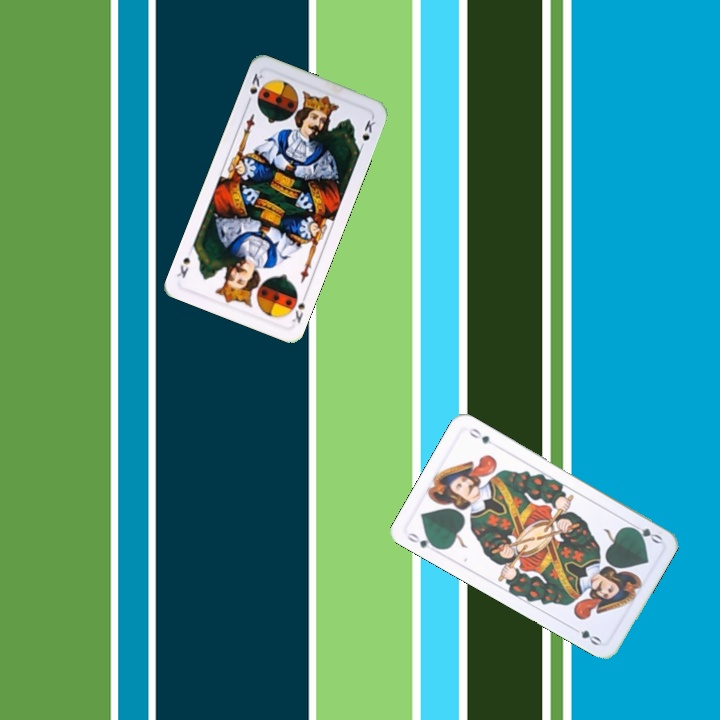GO: (625, 519, 665, 546), (403, 528, 442, 552)
SK: (243, 69, 267, 107), (288, 289, 310, 326)
